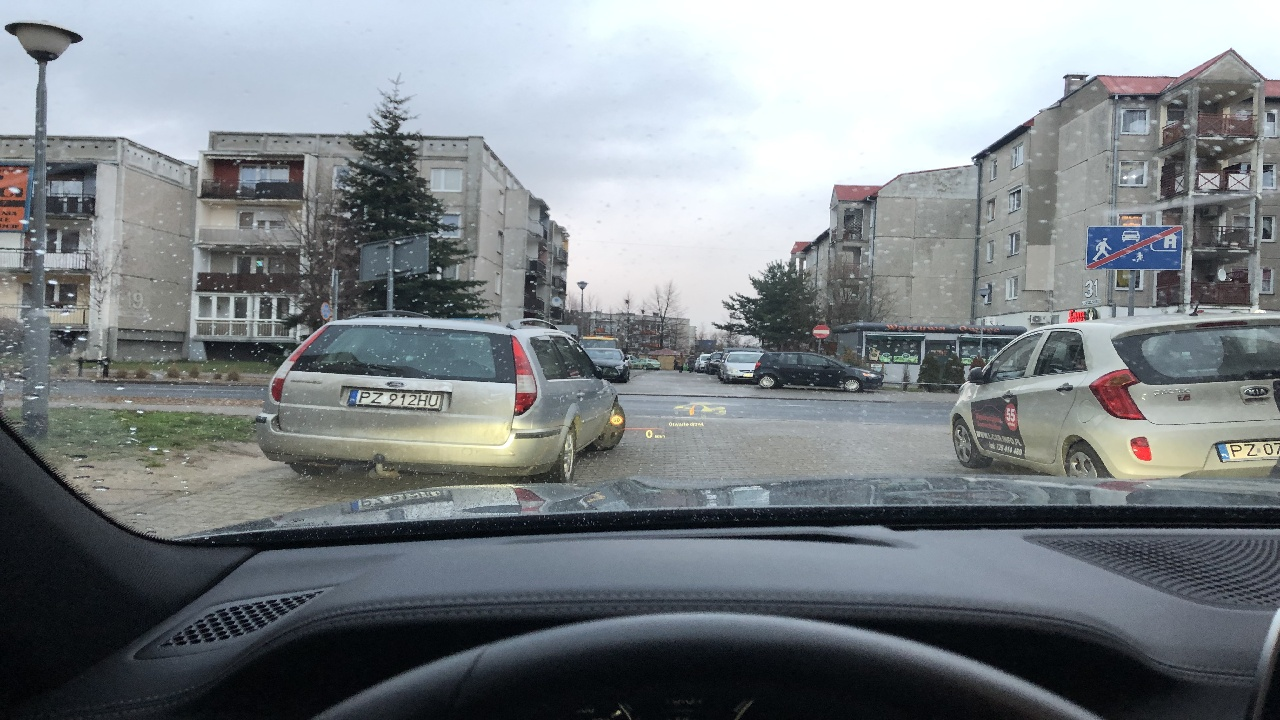D41: (1084, 223, 1187, 272)
